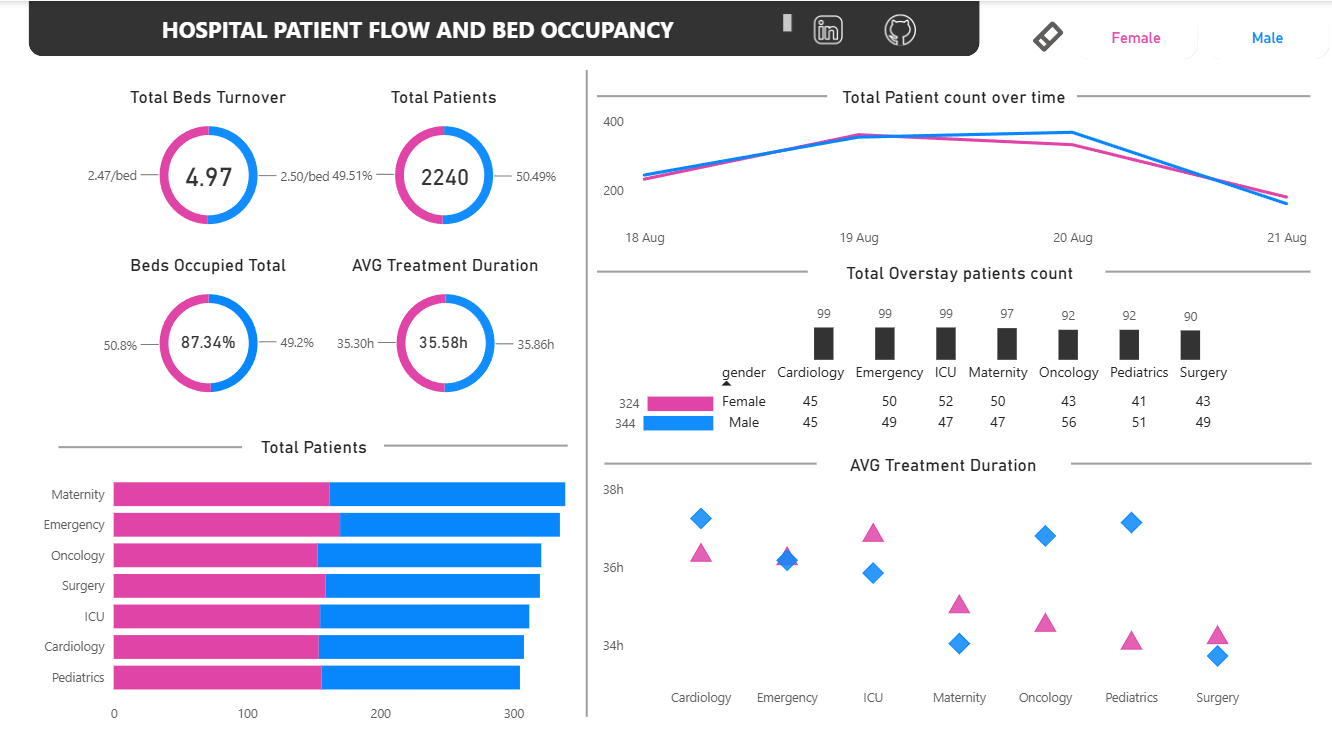

What the dashboard file says about the page in this screenshot:
{"tool":"powerbi","page":{"name":"MAIN","canvas":[1280,720],"ordinal":0},"visuals":[{"type":"donutChart","fields":{"Y":["Sum(vw_patient_demographics.total_patients)"],"Category":["vw_patient_demographics.gender"]},"box":[281,82,290,150],"z":0},{"type":"lineChart","fields":{"Y":["Sum(vw_patient_volume_trend.patient_count)"],"Series":["vw_patient_volume_trend.gender"],"Category":["vw_patient_volume_trend.admission_date.Variation.Date Hierarchy.Year","vw_patient_volume_trend.admission_date.Variation.Date Hierarchy.Quarter","vw_patient_volume_trend.admission_date.Variation.Date Hierarchy.Month","vw_patient_volume_trend.admission_date.Variation.Date Hierarchy.Day"]},"box":[571.9,81.7,684.7,162.4],"z":1000},{"type":"barChart","fields":{"Category":["vw_department_inflow.department"],"Y":["Sum(vw_department_inflow.patient_count)"],"Series":["vw_department_inflow.gender"]},"box":[32,417,539,284],"z":2000},{"type":"pivotTable","fields":{"Values":["Sum(vw_overstay_patients.overstay_count)"],"Rows":["vw_overstay_patients.gender"],"Columns":["vw_overstay_patients.department"]},"box":[681,340,559,79],"z":3000},{"type":"donutChart","fields":{"Category":["vw_bed_turnover_rate.gender"],"Y":["Sum(vw_bed_turnover_rate.bed_turnover_rate)"]},"box":[55,82,290,150],"z":4000},{"type":"advancedSlicerVisual","fields":{"Values":["dim_patient.gender"]},"box":[1026,8,254,52],"z":5000},{"type":"scatterChart","fields":{"X":["vw_avg_treatment_duration.department"],"Y":["Sum(vw_avg_treatment_duration.avg_treatment_duration)"],"Series":["vw_avg_treatment_duration.gender"]},"box":[572,435,664,251],"z":6000},{"type":"clusteredBarChart","fields":{"Category":["vw_overstay_patients.gender"],"Y":["Sum(vw_overstay_patients.overstay_count)"]},"box":[584,357,105,70],"z":7000},{"type":"clusteredColumnChart","fields":{"Category":["vw_overstay_patients.department"],"Y":["Sum(vw_overstay_patients.overstay_count)"]},"box":[775,274,382,75],"z":8000},{"type":"card","fields":{"Values":["Sum(vw_patient_demographics.total_patients)"]},"box":[357,142,139,51],"z":9000},{"type":"card","fields":{"Values":["Sum(vw_bed_turnover_rate.bed_turnover_rate)"]},"box":[106,127,187,81],"z":10000},{"type":"donutChart","fields":{"Y":["Avg(vw_avg_treatment_duration.avg_treatment_duration)"],"Category":["vw_avg_treatment_duration.gender"]},"box":[282.1,243.3,290,150],"z":11000},{"type":"donutChart","fields":{"Series":["vw_bed_occupancy.gender"],"Y":["Sum(vw_bed_occupancy.bed_occupancy_percent)"]},"box":[55,243,290,150],"z":12000},{"type":"card","fields":{"Values":["Avg(vw_avg_treatment_duration.avg_treatment_duration)"]},"box":[369,302.2,114.4,52.2],"z":13000},{"type":"card","fields":{"Values":["Sum(vw_bed_occupancy.bed_occupancy_percent)"]},"box":[129.8,301.1,144.4,53.3],"z":14000},{"type":"shape","box":[27,0,912,53],"z":15000},{"type":"textbox","box":[659.5,250,520.4,29.2],"z":16000},{"type":"textbox","box":[149.3,7.6,614.2,37.8],"z":17000},{"type":"shape","box":[545,66,35,620],"z":18000},{"type":"shape","box":[368.6,417.3,176,18.5],"z":19000},{"type":"shape","box":[1060.2,250,196.5,18.5],"z":20000},{"type":"shape","box":[579.7,434.8,203.3,18.5],"z":21000},{"type":"actionButton","box":[775,8,38,38],"z":23000},{"type":"actionButton","box":[844,8,38,38],"z":24000},{"type":"shape","box":[55.4,418.2,176,18.5],"z":25000},{"type":"shape","box":[572.9,81.7,220.8,18.5],"z":26000},{"type":"shape","box":[1032.9,81.7,223.7,18.5],"z":27000},{"type":"shape","box":[572.9,250,202.3,18.5],"z":28000},{"type":"shape","box":[1026.1,434.8,230.5,18.5],"z":29000},{"type":"actionButton","box":[987.2,15.6,38.9,37],"z":30000}]}

Visuals, with their boxes in screenshot pixels (x1, y1, x2, y2), scaled from the page's 1280x720 canvas onto the 1332x741 screenshot:
donutChart - Sum(vw_patient_demographics.total_patients) x vw_patient_demographics.gender: box(292, 84, 594, 239)
lineChart - Sum(vw_patient_volume_trend.patient_count) x vw_patient_volume_trend.gender: box(595, 84, 1308, 251)
barChart - vw_department_inflow.department x Sum(vw_department_inflow.patient_count): box(33, 429, 594, 721)
pivotTable - Sum(vw_overstay_patients.overstay_count) x vw_overstay_patients.gender: box(709, 350, 1290, 431)
donutChart - vw_bed_turnover_rate.gender x Sum(vw_bed_turnover_rate.bed_turnover_rate): box(57, 84, 359, 239)
advancedSlicerVisual - dim_patient.gender: box(1068, 8, 1331, 62)
scatterChart - vw_avg_treatment_duration.department x Sum(vw_avg_treatment_duration.avg_treatment_duration): box(595, 448, 1286, 706)
clusteredBarChart - vw_overstay_patients.gender x Sum(vw_overstay_patients.overstay_count): box(608, 367, 717, 439)
clusteredColumnChart - vw_overstay_patients.department x Sum(vw_overstay_patients.overstay_count): box(806, 282, 1204, 359)
card - Sum(vw_patient_demographics.total_patients): box(372, 146, 516, 199)
card - Sum(vw_bed_turnover_rate.bed_turnover_rate): box(110, 131, 305, 214)
donutChart - Avg(vw_avg_treatment_duration.avg_treatment_duration) x vw_avg_treatment_duration.gender: box(294, 250, 595, 405)
donutChart - vw_bed_occupancy.gender x Sum(vw_bed_occupancy.bed_occupancy_percent): box(57, 250, 359, 404)
card - Avg(vw_avg_treatment_duration.avg_treatment_duration): box(384, 311, 503, 365)
card - Sum(vw_bed_occupancy.bed_occupancy_percent): box(135, 310, 285, 365)
shape: box(28, 0, 977, 55)
textbox: box(686, 257, 1228, 287)
textbox: box(155, 8, 795, 47)
shape: box(567, 68, 604, 706)
shape: box(384, 429, 567, 449)
shape: box(1103, 257, 1308, 276)
shape: box(603, 447, 815, 467)
actionButton: box(806, 8, 846, 47)
actionButton: box(878, 8, 918, 47)
shape: box(58, 430, 241, 449)
shape: box(596, 84, 826, 103)
shape: box(1075, 84, 1308, 103)
shape: box(596, 257, 807, 276)
shape: box(1068, 447, 1308, 467)
actionButton: box(1027, 16, 1068, 54)
